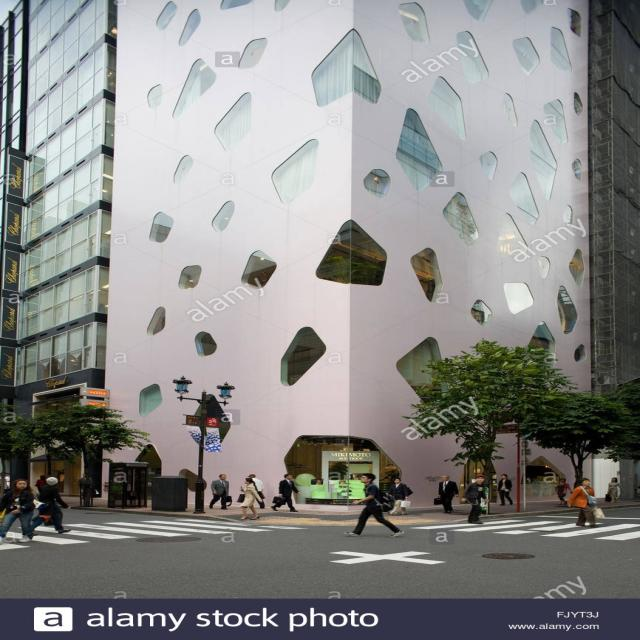body: (342, 471, 407, 538), (22, 476, 72, 536), (0, 478, 36, 546), (565, 477, 606, 528), (457, 472, 491, 526), (269, 471, 301, 513), (236, 476, 264, 521), (385, 476, 414, 516), (207, 472, 234, 510), (436, 475, 460, 514), (247, 474, 267, 509), (496, 472, 515, 507), (603, 476, 626, 503), (553, 477, 573, 506), (77, 472, 94, 501), (34, 474, 46, 494), (316, 479, 350, 486)
